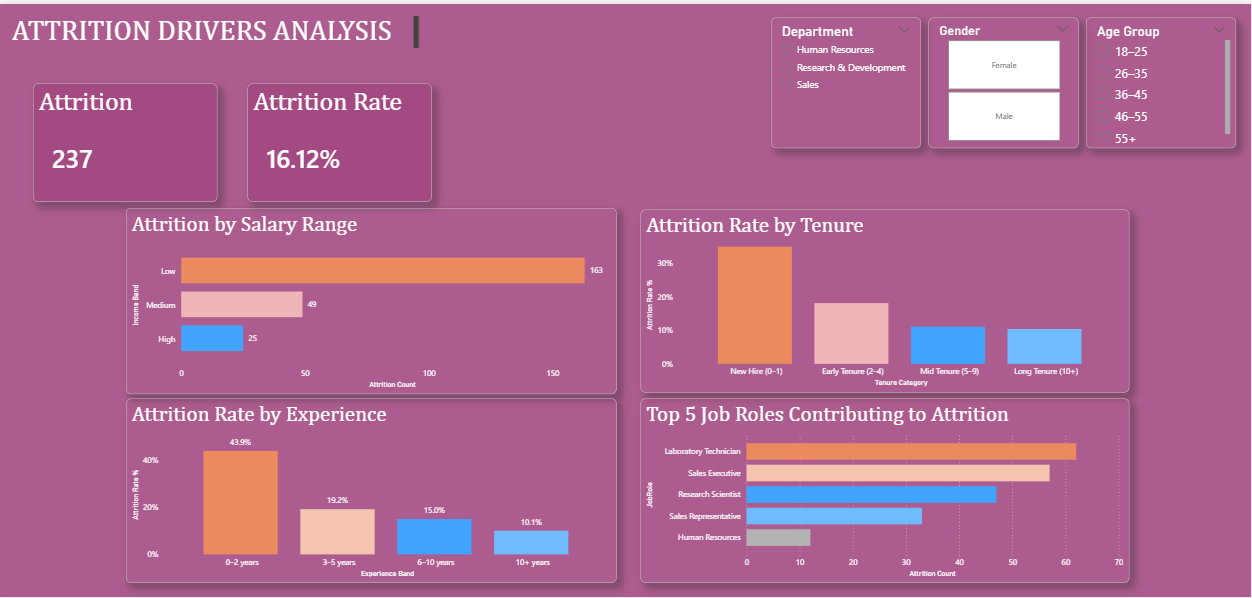

The page's visual inventory and layout, read from the dashboard file:
{"tool":"powerbi","page":{"name":"Attrition Drivers","canvas":[1900,900],"ordinal":1},"visuals":[{"type":"textbox","box":[10,0,650,72],"z":0},{"type":"cardVisual","title":"Attrition","fields":{"Data":["HR-Employee-Attrition.Attrition Count"]},"box":[54.5,120.5,279.5,179.5],"z":1},{"type":"cardVisual","title":"Attrition Rate","fields":{"Data":["HR-Employee-Attrition.Attrition Rate %"]},"box":[379.5,120.5,279.5,179.5],"z":2},{"type":"clusteredBarChart","title":"Attrition by Salary Range","fields":{"Category":["HR-Employee-Attrition.Income Band"],"Y":["HR-Employee-Attrition.Attrition Count"]},"box":[195.5,309.1,743.2,281.8],"z":3},{"type":"clusteredColumnChart","title":"Attrition Rate by Tenure","fields":{"Y":["HR-Employee-Attrition.Attrition Rate %"],"Category":["HR-Employee-Attrition.Tenure Category"]},"box":[975,311.4,740.9,277.3],"z":4},{"type":"clusteredColumnChart","title":"Attrition Rate by Experience","fields":{"Y":["HR-Employee-Attrition.Attrition Rate %"],"Category":["HR-Employee-Attrition.Experience Band"]},"box":[195.5,597.7,743.2,279.5],"z":5},{"type":"clusteredBarChart","title":"Top 5 Job Roles Contributing to Attrition","fields":{"Category":["HR-Employee-Attrition.JobRole"],"Y":["HR-Employee-Attrition.Attrition Count"]},"box":[975,597.7,740.9,279.5],"z":6},{"type":"slicer","fields":{"Values":["HR-Employee-Attrition.Department"]},"box":[1172.7,20.5,227.3,197.7],"z":7},{"type":"slicer","fields":{"Values":["HR-Employee-Attrition.Gender"]},"box":[1411.4,20.5,227.3,197.7],"z":8},{"type":"slicer","fields":{"Values":["HR-Employee-Attrition.Age Group"]},"box":[1650,20.5,227.3,197.7],"z":9}]}

Visuals, with their boxes in screenshot pixels (x1, y1, x2, y2), scaled from the page's 1900x900 canvas onto the 1252x598 screenshot:
textbox: x1=7 y1=0 x2=435 y2=48
"Attrition" cardVisual: x1=36 y1=80 x2=220 y2=199
"Attrition Rate" cardVisual: x1=250 y1=80 x2=434 y2=199
"Attrition by Salary Range" clusteredBarChart: x1=129 y1=205 x2=619 y2=393
"Attrition Rate by Tenure" clusteredColumnChart: x1=642 y1=207 x2=1131 y2=391
"Attrition Rate by Experience" clusteredColumnChart: x1=129 y1=397 x2=619 y2=583
"Top 5 Job Roles Contributing to Attrition" clusteredBarChart: x1=642 y1=397 x2=1131 y2=583
slicer - HR-Employee-Attrition.Department: x1=773 y1=14 x2=923 y2=145
slicer - HR-Employee-Attrition.Gender: x1=930 y1=14 x2=1080 y2=145
slicer - HR-Employee-Attrition.Age Group: x1=1087 y1=14 x2=1237 y2=145
